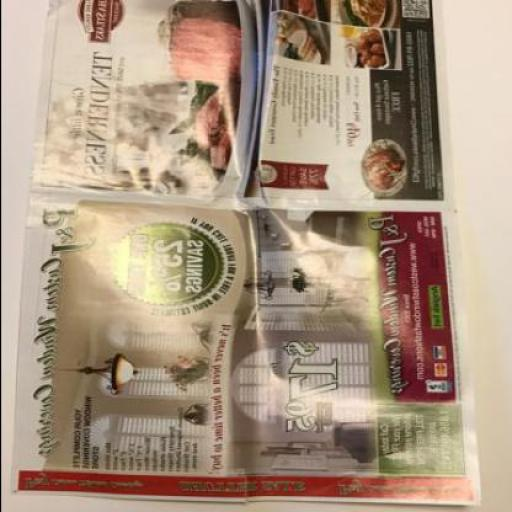paper: (9, 0, 485, 506)
